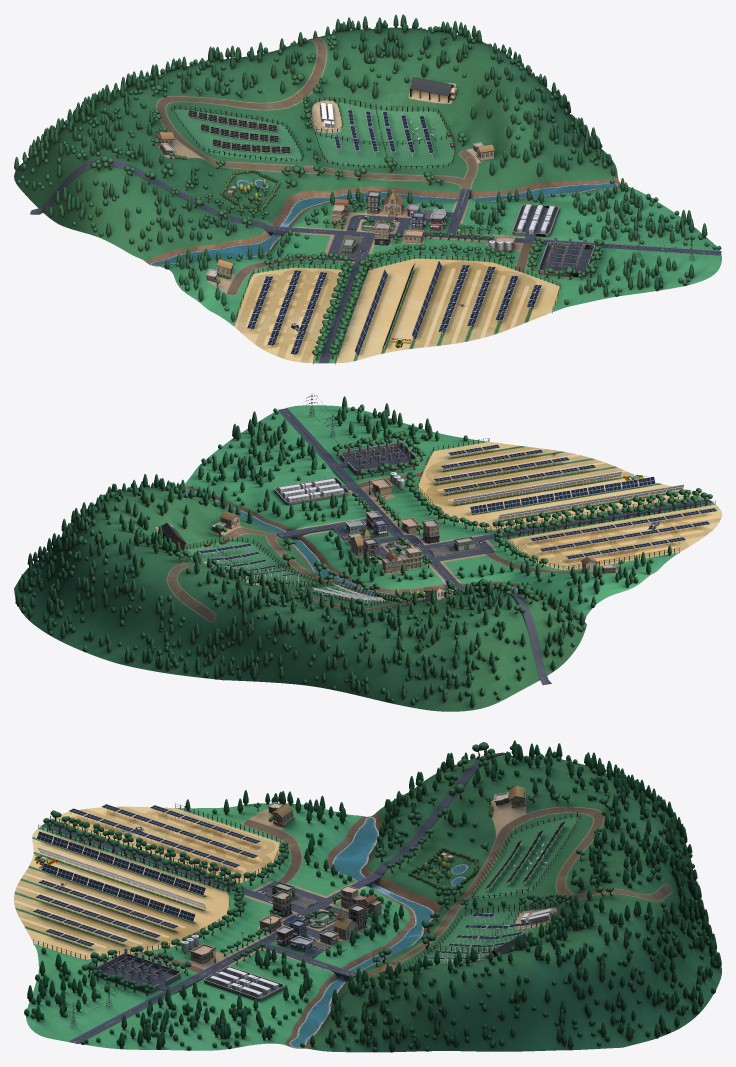
File: terrain_v20.glb
3 renders of one model, top to bottom at view 1: azimuth 30°, elevation 25°; view 2: azimuth 150°, elevation 25°; view 3: azimuth 270°, elevation 25°, orthographic. The views are drawn at different scales.
Parts seen in each view (by area): view 1: ground, forest, trees, roads, houses, water, fences, batteries, power-grid, ilot-de-vie, PV_Tracker_Cath; view 2: ground, forest, trees, roads, houses, fences, PV_Tracker_Cath.001, water, power-grid, batteries, PV_Tracker_Cath, PV_Tracker_Cath.002 (+1 smaller); view 3: ground, forest, trees, roads, houses, water, fences, PV_Tracker_Cath, batteries, PV_Tracker_Cath.002, power-grid, ilot-de-vie (+2 smaller).
Part boxes in pixels (x1,y1,x2,y2): ground: (14, 27, 721, 363); forest: (14, 14, 721, 321); trees: (76, 35, 603, 360); roads: (30, 158, 721, 362); houses: (155, 77, 515, 281); water: (150, 179, 618, 265); fences: (171, 97, 560, 364); batteries: (320, 102, 554, 233); power-grid: (425, 131, 694, 268); ilot-de-vie: (174, 155, 280, 211); PV_Tracker_Cath: (354, 269, 388, 356); ground: (14, 405, 721, 711); forest: (15, 396, 671, 707); trees: (175, 431, 712, 614); roads: (274, 408, 712, 685); houses: (161, 472, 616, 600); fences: (184, 438, 715, 606); PV_Tracker_Cath.001: (470, 476, 655, 514); water: (184, 489, 579, 620); power-grid: (205, 393, 410, 547); batteries: (242, 478, 344, 585); PV_Tracker_Cath: (498, 484, 683, 519); PV_Tracker_Cath.002: (453, 471, 621, 503); ground: (14, 754, 721, 1052); forest: (24, 740, 721, 1052); trees: (43, 742, 613, 995); roads: (42, 752, 505, 1043); houses: (181, 785, 527, 977); water: (289, 817, 468, 1048); fences: (33, 803, 580, 970); PV_Tracker_Cath: (36, 831, 205, 895); batteries: (210, 908, 553, 997); PV_Tracker_Cath.002: (41, 863, 195, 921); power-grid: (66, 918, 271, 1028); ilot-de-vie: (408, 805, 493, 890).
Bounding box in the file's own units: 48.86 × 8.82 × 54.42.
17 materials, 15 textured.
